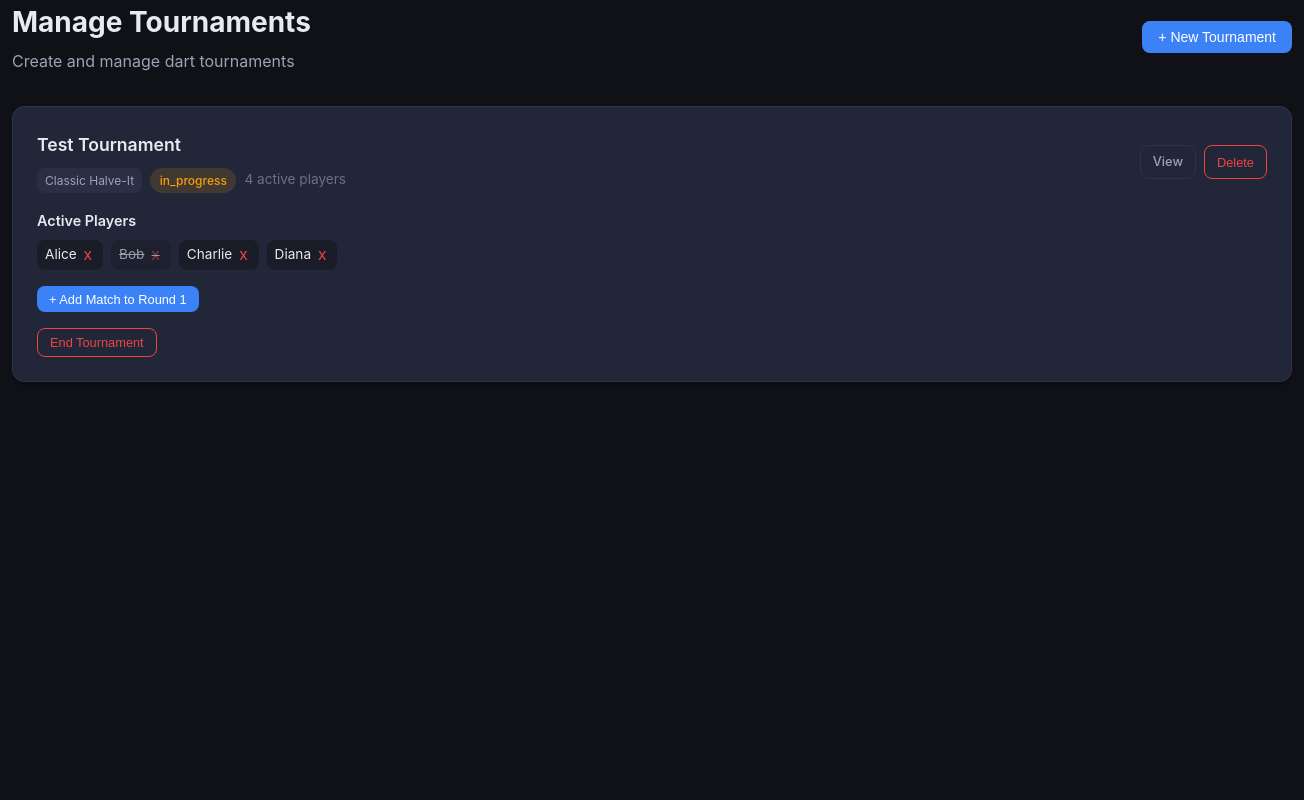
Test case: ManageTournamentsPage — flexible round planning › shows "Start Round 2" button inside match UI when round 1 is complete
Open the match UI
Click the button "+ Add Match to Round 1".
click(118, 299)  # box [37, 286, 199, 312]
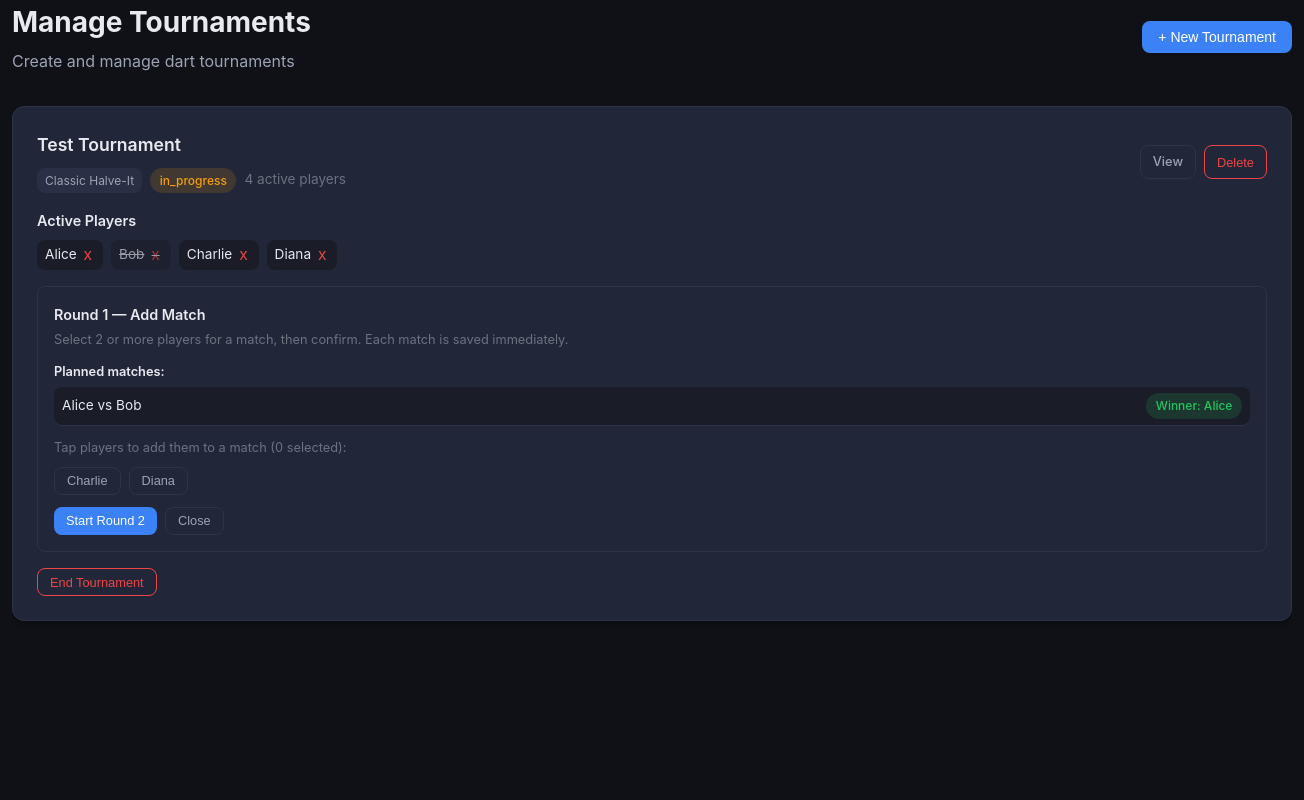
Now the button "Start Round 2" is shown, box [54, 507, 157, 535]
